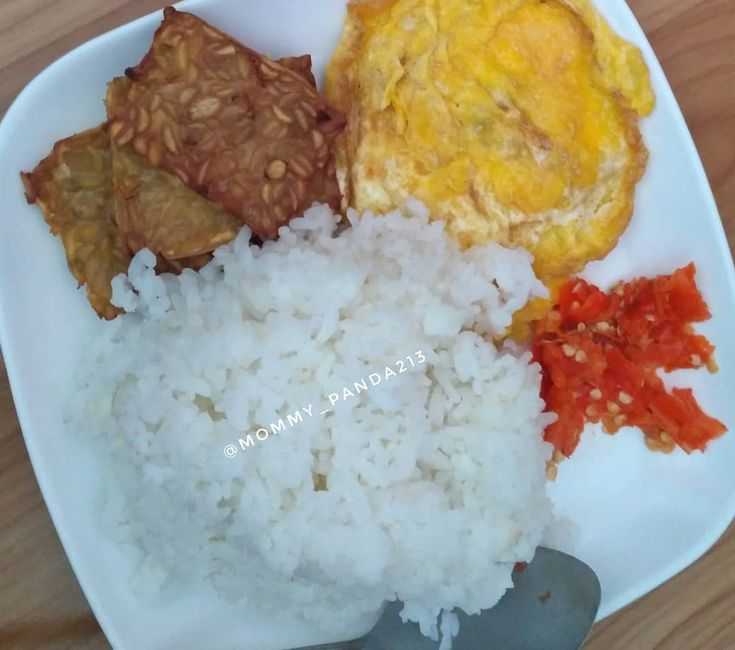buah_sayur_vitA: (562, 295, 689, 418)
kacang_legume: (114, 72, 305, 213)
makanan_berpati: (157, 284, 476, 581)
telur: (375, 16, 595, 192)
